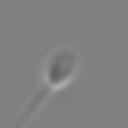normal: (1, 85, 51, 128)
